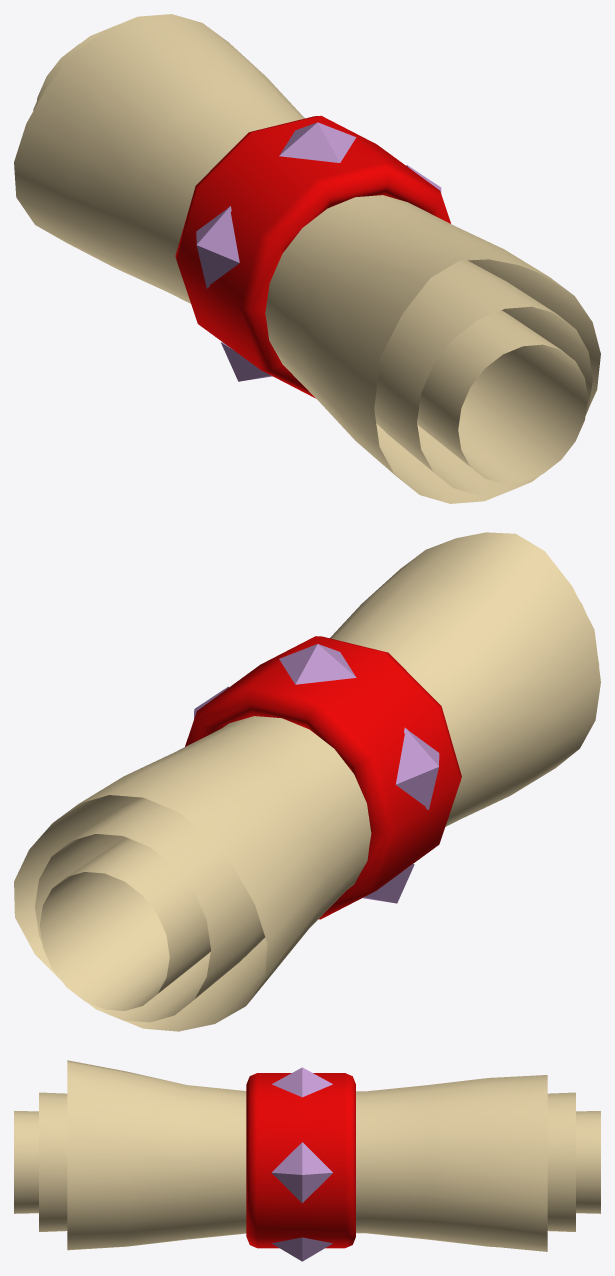
File: paper.fbx
3 renders of one model, top to bottom at view 1: azimuth 30°, elevation 25°; view 2: azimuth 150°, elevation 25°; view 3: azimuth 270°, elevation 25°, orthographic. The views are drawn at different scales.
Visible parts, largest first — view 1: paper1; view 2: paper1; view 3: paper1.
Boxes of the visible parts, x1,y1,x2,y2 form: paper1: [14, 14, 600, 503]; paper1: [14, 532, 600, 1031]; paper1: [14, 1060, 600, 1261].
Size of the model in its own units: 0.1278 by 0.1226 by 0.3711.
